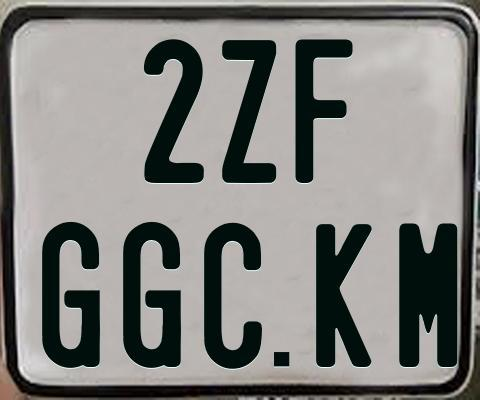2: (143, 36, 203, 180)
C: (202, 221, 265, 370)
F: (295, 39, 359, 186)
G: (121, 222, 183, 369), (41, 219, 99, 367)
K: (315, 223, 374, 371)
M: (396, 222, 455, 372)
Z: (219, 39, 273, 183)
